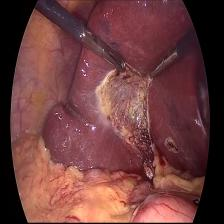Grasper: (80, 26, 132, 75), (145, 45, 180, 83)
